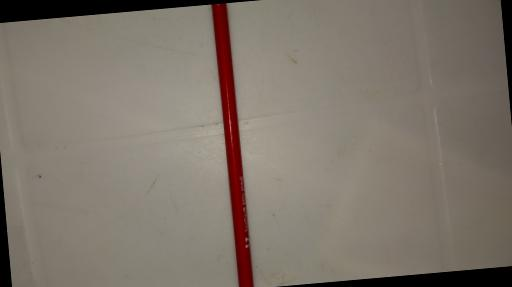Pencil: (210, 2, 252, 287)
